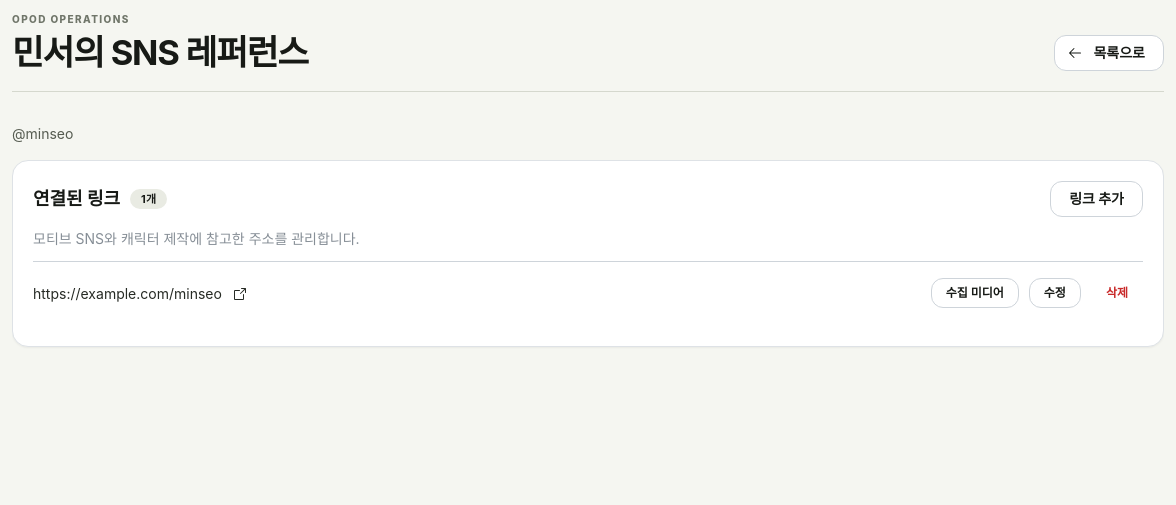
Test: character SNS reference list and detail › opens a character's detail directly and allows cancelling an edit before returning to the list
Expected: the heading "민서의 SNS 레퍼런스" is shown, [12,34,308,71]
Step 1. Click the button "수정" → x=1055, y=293, box [1029,278,1081,308]
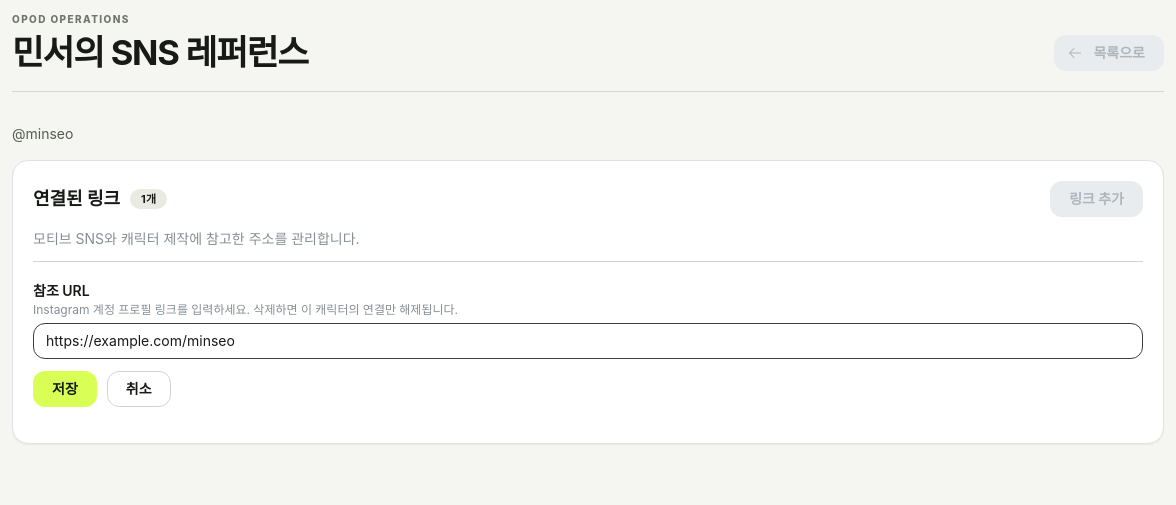
Expected: the field labelled "참조 URL" holds "https://example.com/minseo", [33,323,1143,359]
Expected: the button "목록으로" is disabled, [1054,35,1164,71]
Step 2. Click the button "취소" → x=139, y=389, box [107,371,171,407]
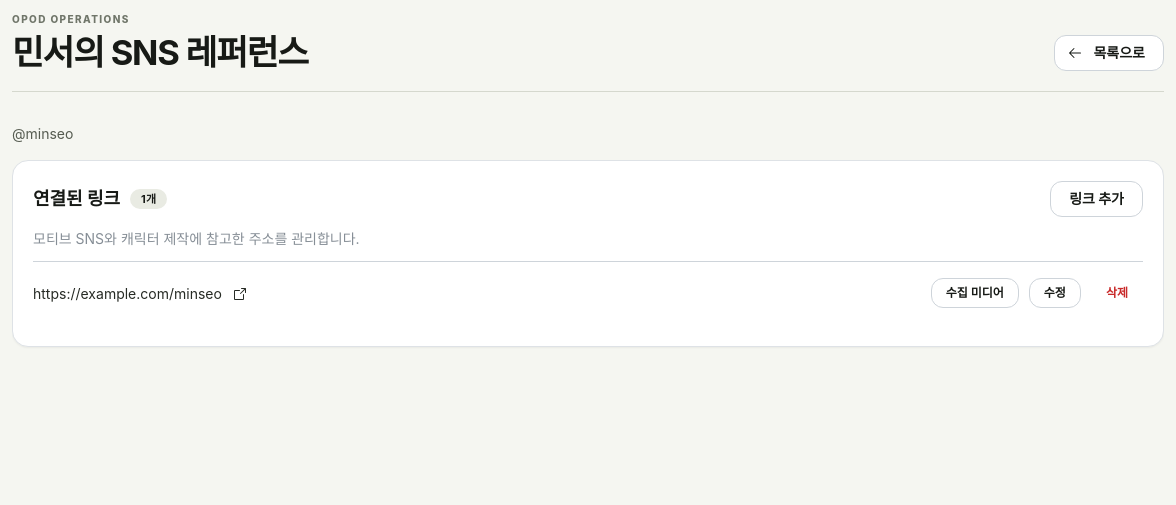
Expected: the button "목록으로" is enabled
Step 3. Click the button "목록으로" → x=1109, y=53, box [1054,35,1164,71]
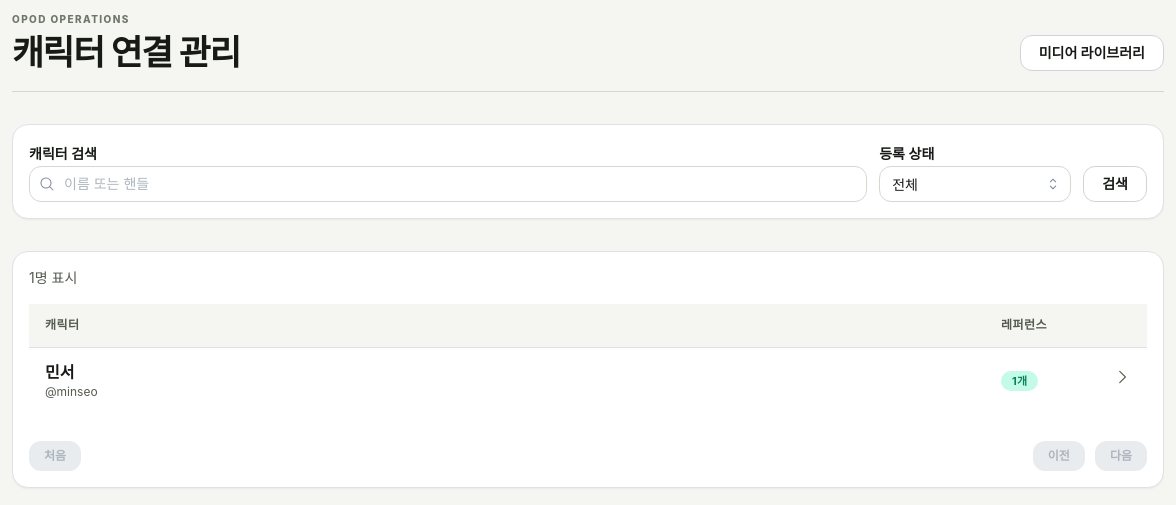
Expected: the table named "캐릭터별 SNS 레퍼런스" is shown, [29,304,1147,413]
